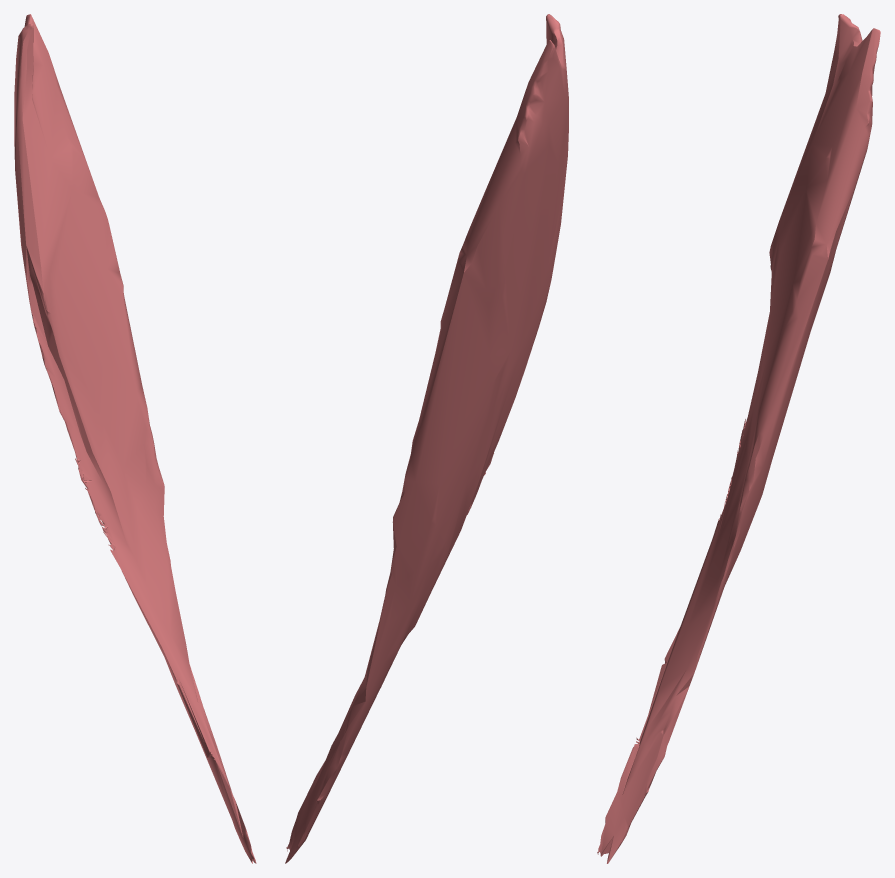
3 views of the same model, side by side, from view 1: azimuth 30°, elevation 25°; view 2: azimuth 210°, elevation 25°; view 3: azimuth 270°, elevation 25° (orthographic). The views are drawn at different scales.
Visible parts, largest first — view 1: FJ1518M; view 2: FJ1518M; view 3: FJ1518M.
Boxes of the visible parts, x1,y1,x2,y2 form: FJ1518M: (14,14,256,863); FJ1518M: (285,14,568,863); FJ1518M: (597,14,880,863).
Size of the model in its own units: 0.0399 by 0.2118 by 0.0684.
